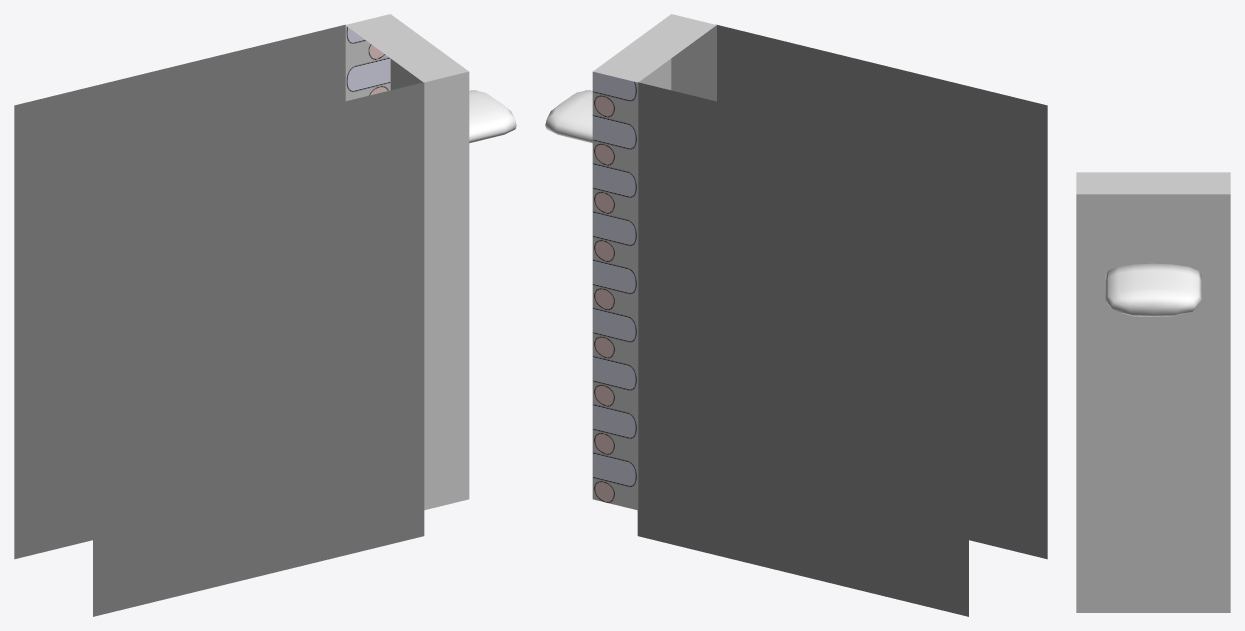
The model's file is screen_19_01.obj.
The picture shows the model from 3 angles, left to right: view 1: azimuth 30°, elevation 25°; view 2: azimuth 150°, elevation 25°; view 3: azimuth 270°, elevation 25°; orthographic projection. The views are drawn at different scales.
Parts seen in each view (by area): view 1: Cube.030_Cube.1374, Cube.022_Cube.1366, OverGround.057_Cube.1375; view 2: Cube.030_Cube.1374, Cube.022_Cube.1366, OverGround.057_Cube.1375; view 3: Cube.022_Cube.1366, OverGround.057_Cube.1375.
Boxes of the visible parts, <box> form: Cube.030_Cube.1374: <box>14,24,424,616</box>; Cube.022_Cube.1366: <box>345,14,469,510</box>; OverGround.057_Cube.1375: <box>469,90,516,143</box>; Cube.030_Cube.1374: <box>637,24,1047,616</box>; Cube.022_Cube.1366: <box>592,14,716,510</box>; OverGround.057_Cube.1375: <box>545,90,592,143</box>; Cube.022_Cube.1366: <box>1076,172,1230,612</box>; OverGround.057_Cube.1375: <box>1105,263,1201,316</box>.
Size of the model in its own units: 19.66 by 19.1 by 6.
